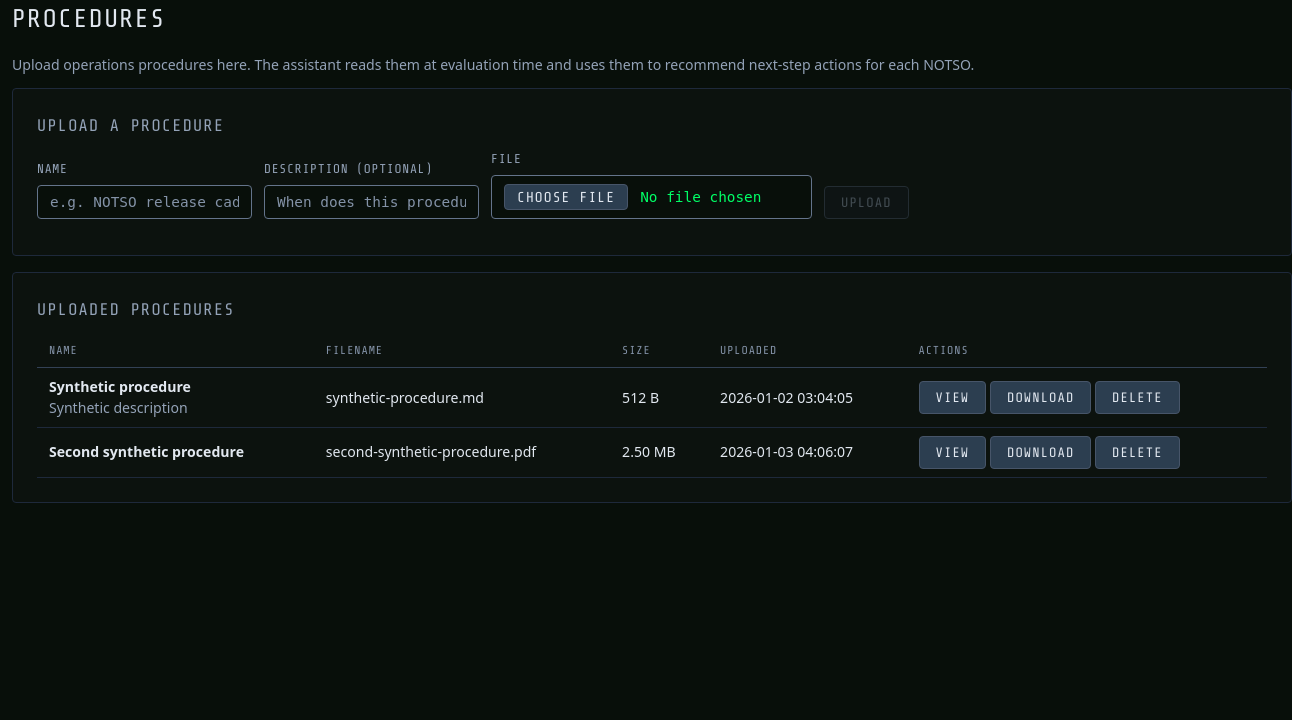
the procedures page › marks a preview that was cut short, and points to Download when there is none
What coordinates should you click on to do the following:
click the button "View" in the row of "Synthetic description"
I would click on:
 (952, 397)
Its box is [919, 381, 986, 414].
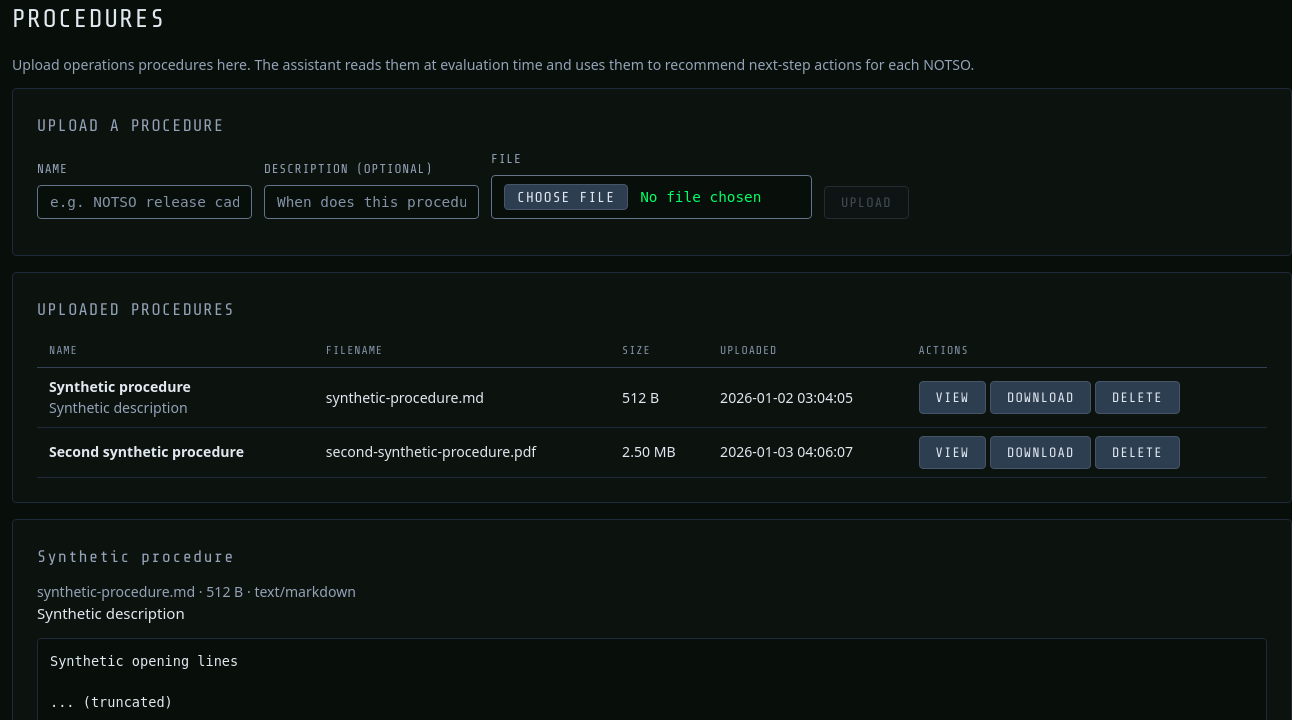
What coordinates should you click on to do the following:
click the button "View" in the row of "Second synthetic procedure"
I would click on:
 (952, 452)
Its box is [919, 436, 986, 468].
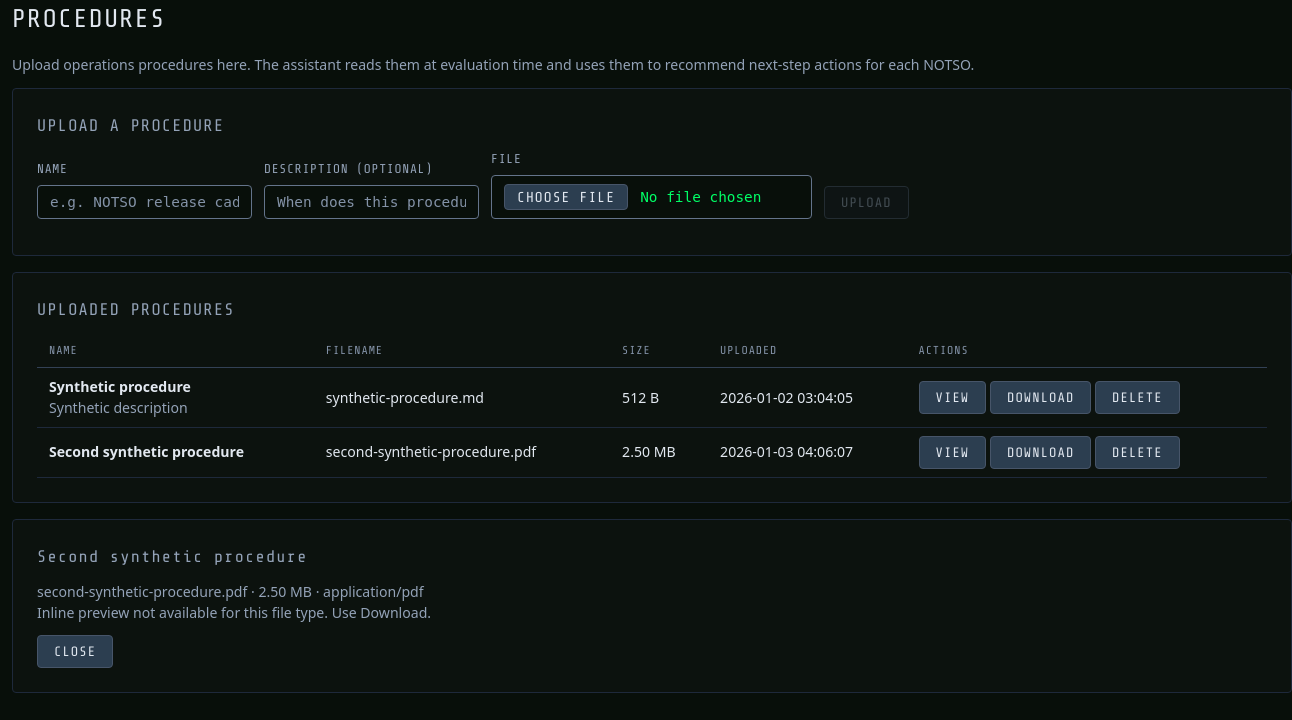
Expected: the heading "Second synthetic procedure" is shown, [37, 546, 308, 566]
